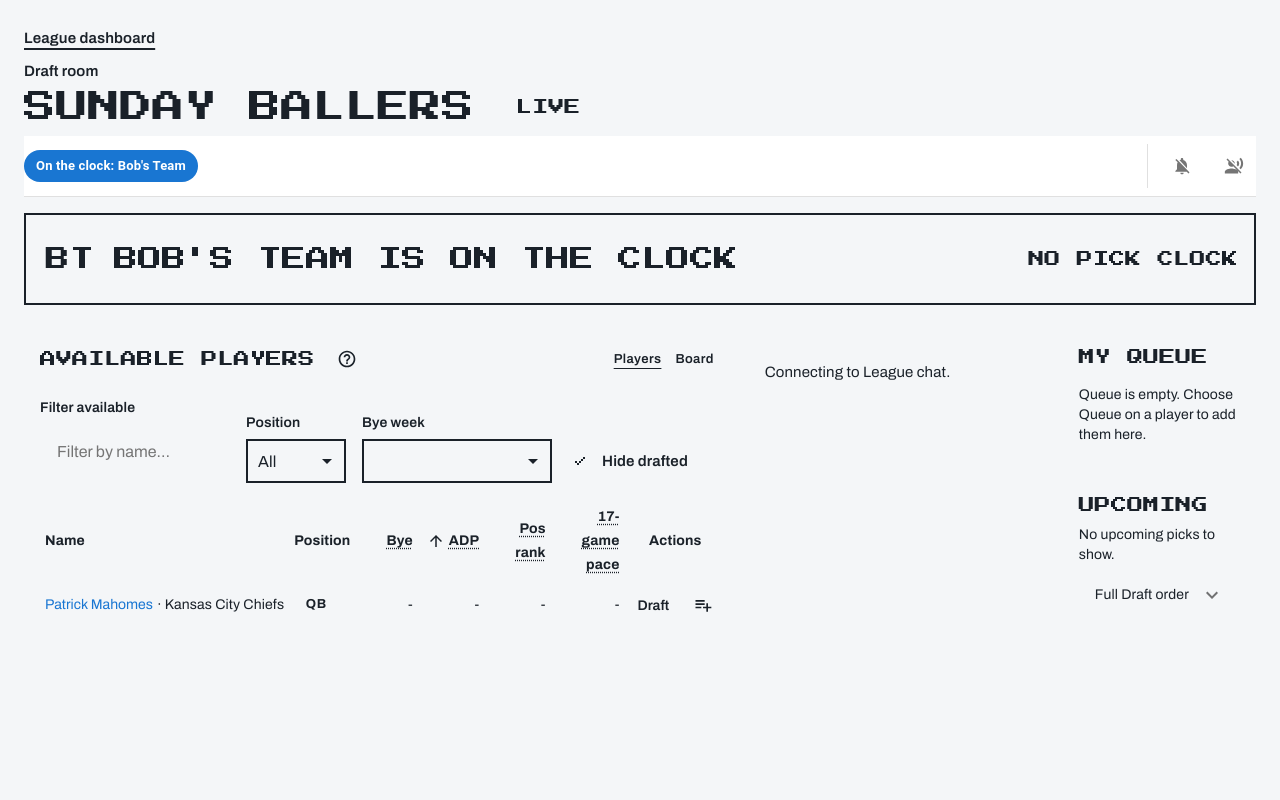
renders league state (name, on-the-clock, pick history) from a draft:state event
The image size is (1280, 800).
Expected: the button "Patrick Mahomes" is shown, [45, 583, 153, 627]
Expected: the heading "Sunday Ballers" is shown, [24, 86, 474, 128]
Click the button "Board": [694, 359] box [667, 337, 721, 381]
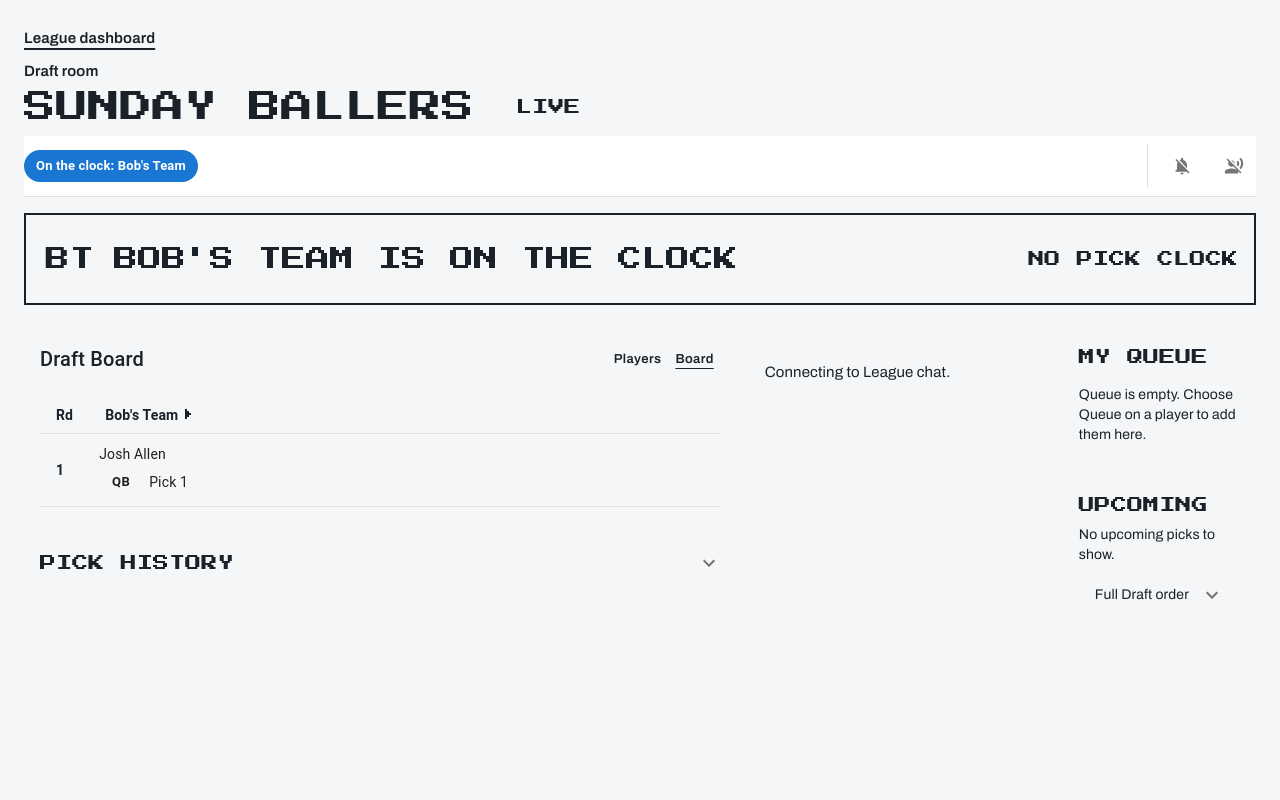
Click the button "Pick history": [137, 563] box [40, 551, 721, 575]
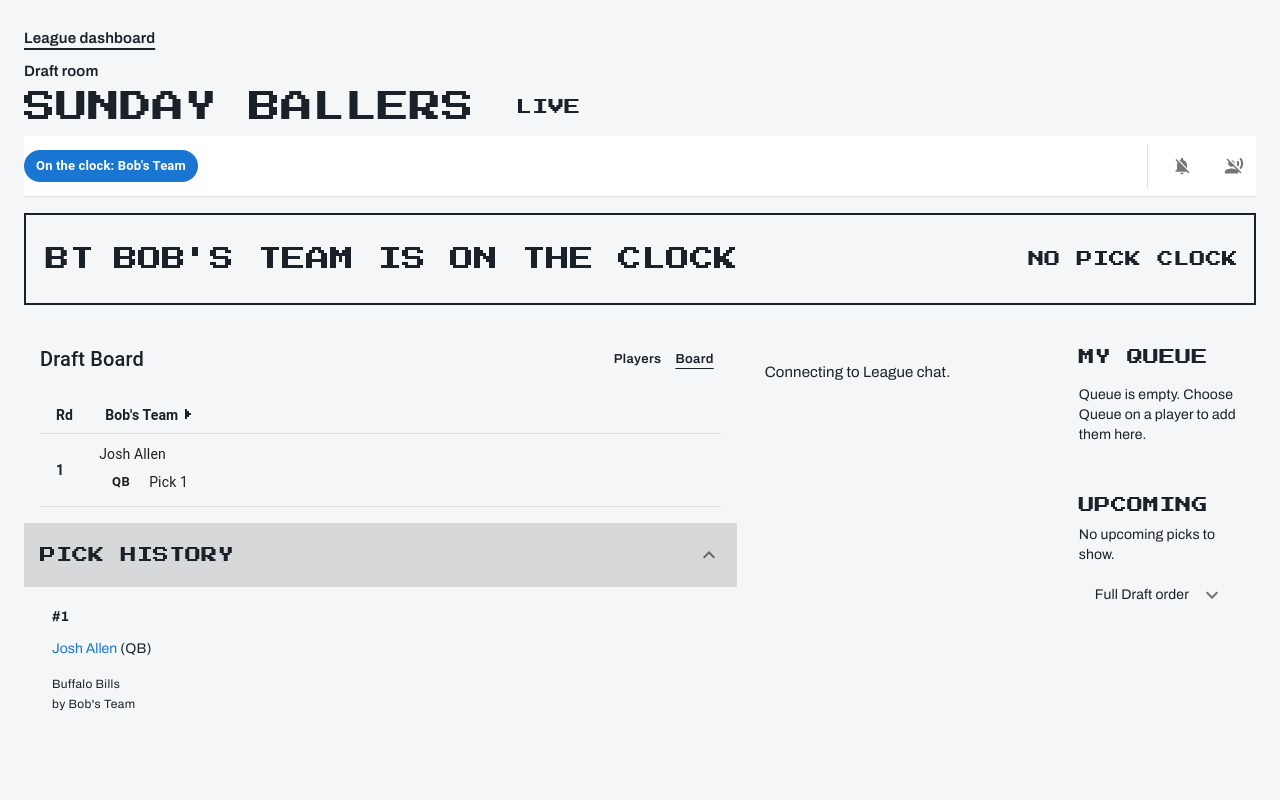
Result: the text "#1" is shown at [52, 609, 69, 624]
Result: the button "Josh Allen" is shown at [52, 627, 117, 671]
Result: the text "by Bob's Team" is shown at [52, 697, 135, 711]
